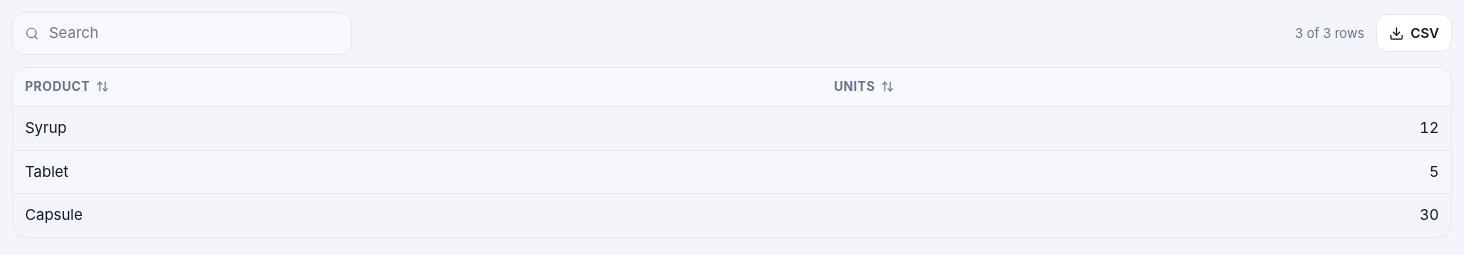
Scenario: DataTable › sorts numbers numerically when a column header is clicked
The width and height of the screenshot is (1464, 255).
Click the button "Units".
click(854, 86)  # box [822,68,1451,106]
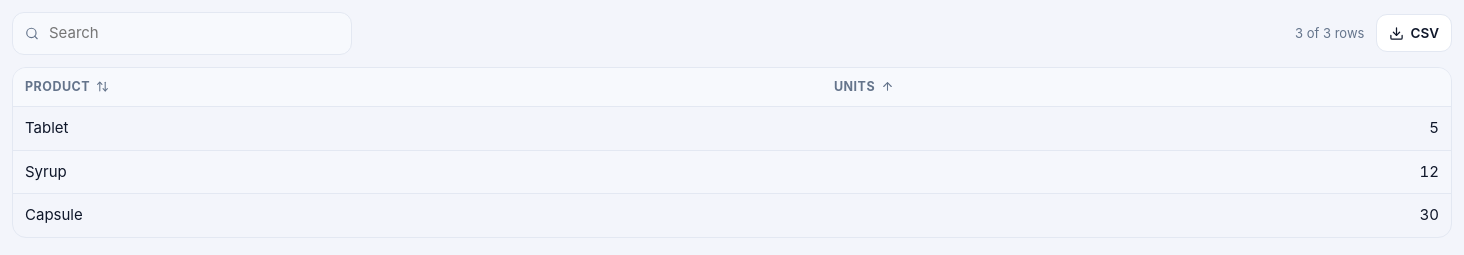
Result: the cell "5" is shown at [822,107,1451,150]
